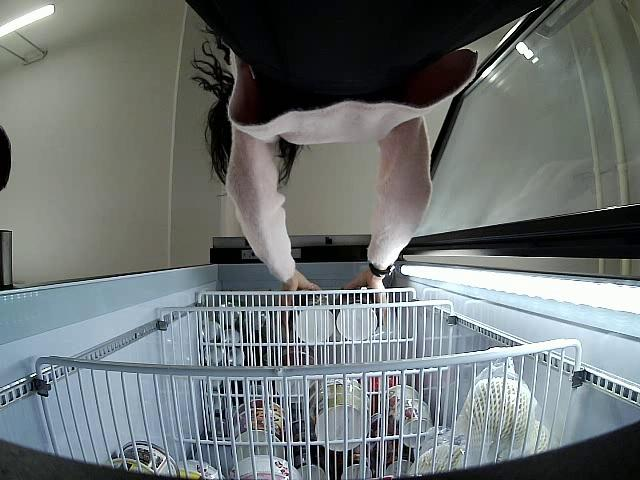00_hand: (346, 274, 390, 331), (281, 278, 321, 325)
